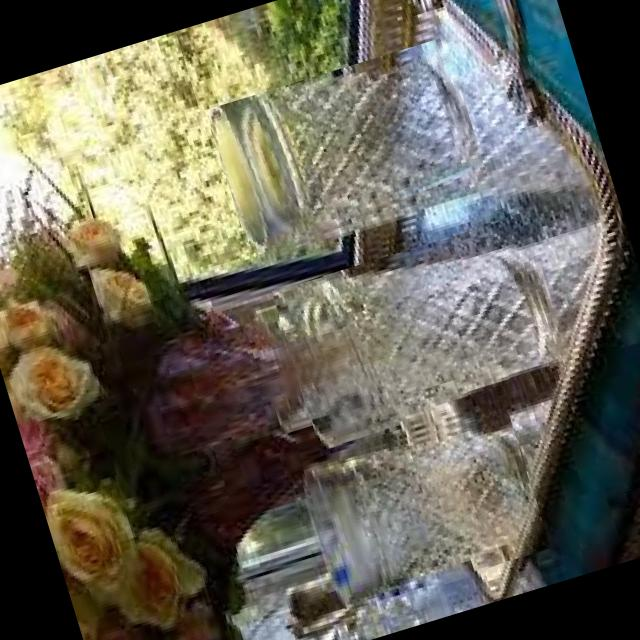Glass: (271, 214, 568, 450), (206, 35, 492, 263), (290, 400, 550, 612)
